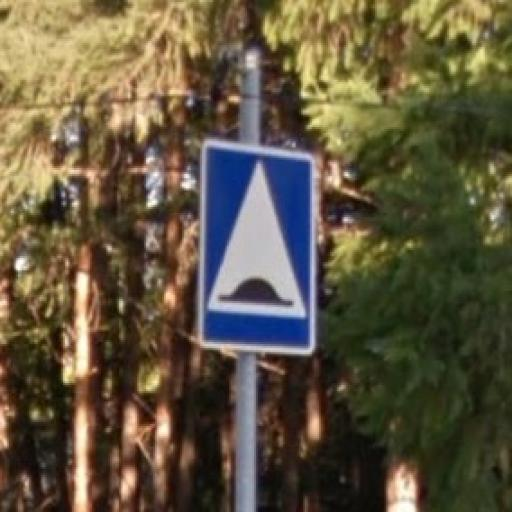traffic_sign: (197, 137, 322, 358)
